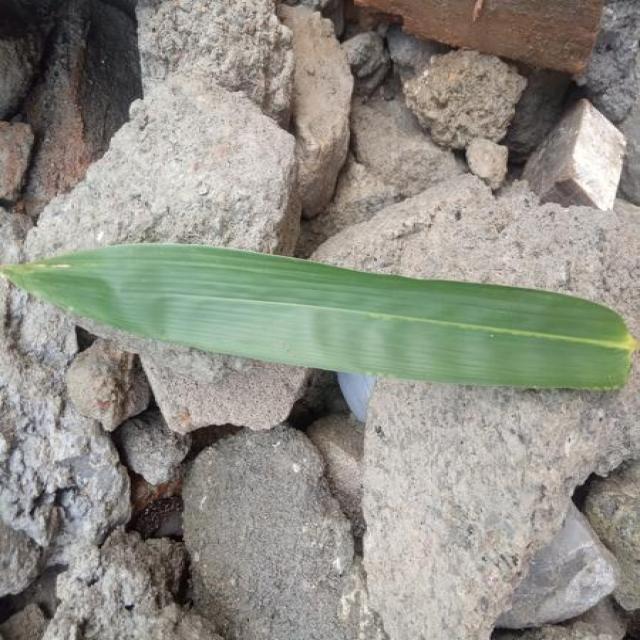Bamboo: (3, 244, 637, 389)
